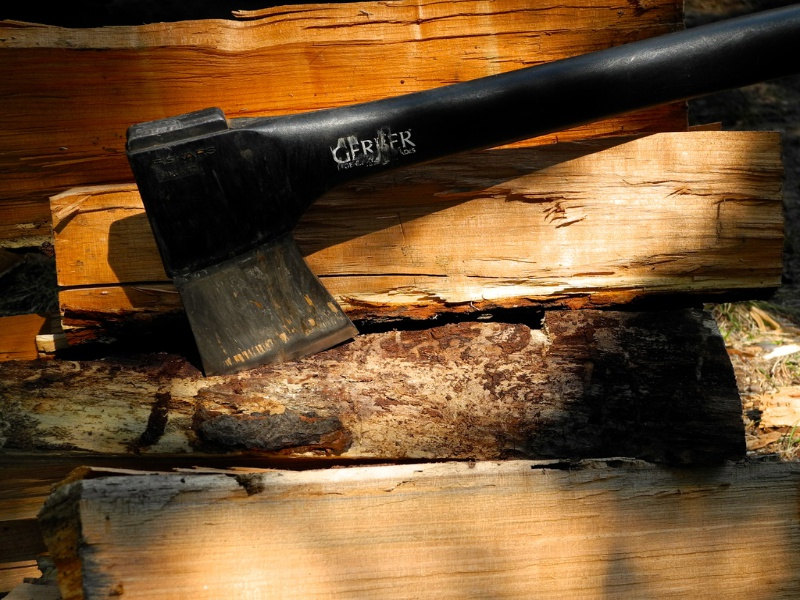axe: (114, 98, 456, 379)
